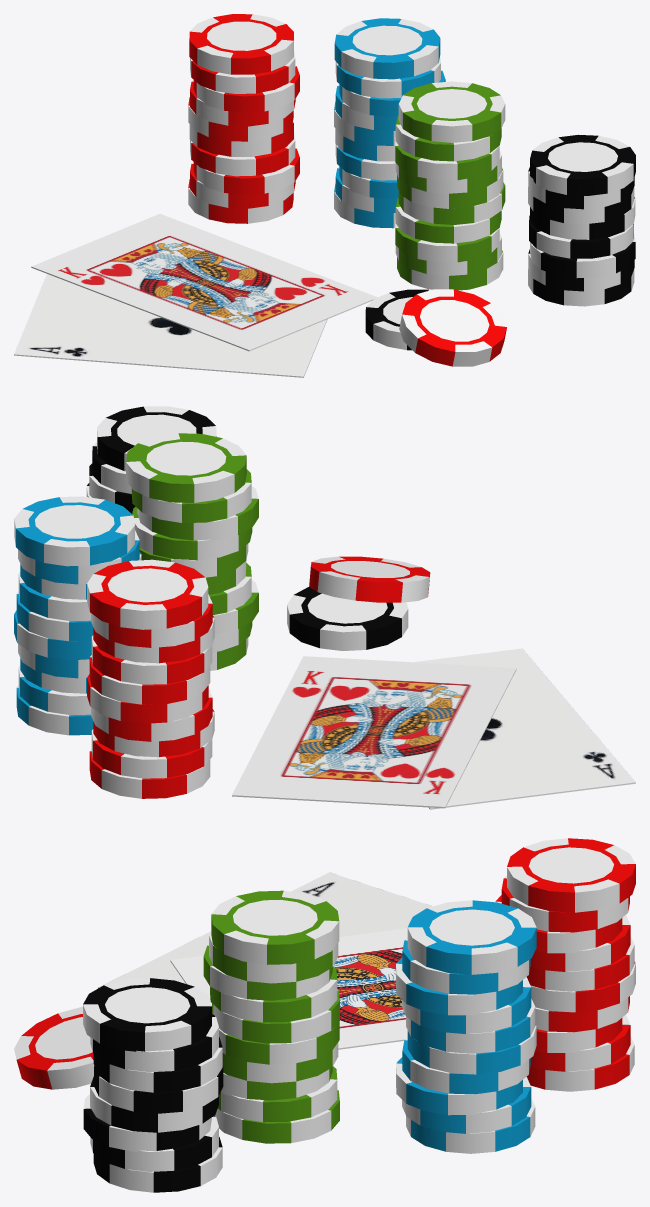
The model's file is chips.gltf.
3 views of the same model, one above another, from view 1: azimuth 30°, elevation 25°; view 2: azimuth 150°, elevation 25°; view 3: azimuth 270°, elevation 25° (orthographic). The views are drawn at different scales.
Parts seen in each view (by area): view 1: Plane_2, Plane_3, Cylinder_49, Cylinder_39, Cylinder_29, Cylinder_48, Cylinder_9, Cylinder_43, Cylinder_18, Cylinder_13, Cylinder_44, Cylinder_38 (+30 smaller); view 2: Plane_2, Plane_3, Cylinder_9, Cylinder_39, Cylinder_29, Cylinder_40, Cylinder_49, Cylinder_48, Cylinder_16, Cylinder_11, Cylinder_30, Cylinder_10 (+25 smaller); view 3: Plane_2, Cylinder_29, Cylinder_39, Cylinder_9, Cylinder_48, Plane_3, Cylinder_49, Cylinder_37, Cylinder_28, Cylinder_45, Cylinder_42, Cylinder_47 (+29 smaller).
Part boxes in pixels (box(x1,y1,x2,y2)): Plane_2: box(31, 214, 377, 351); Plane_3: box(14, 274, 327, 377); Cylinder_49: box(399, 289, 506, 366); Cylinder_39: box(398, 81, 505, 142); Cylinder_29: box(334, 18, 440, 79); Cylinder_48: box(530, 134, 635, 195); Cylinder_9: box(189, 14, 293, 74); Cylinder_43: box(530, 233, 635, 278); Cylinder_18: box(190, 50, 295, 93); Cylinder_13: box(190, 132, 295, 176); Cylinder_44: box(529, 215, 633, 258); Cylinder_38: box(395, 137, 499, 180); Plane_2: box(232, 656, 516, 808); Plane_3: box(414, 648, 635, 809); Cylinder_9: box(87, 559, 208, 629); Cylinder_39: box(126, 433, 246, 502); Cylinder_29: box(14, 496, 134, 566); Cylinder_40: box(287, 587, 408, 650); Cylinder_49: box(309, 556, 430, 602); Cylinder_48: box(97, 406, 216, 471); Cylinder_16: box(91, 635, 212, 684); Cylinder_11: box(91, 729, 212, 778); Cylinder_30: box(131, 469, 251, 522); Cylinder_10: box(89, 749, 210, 798); Plane_2: box(170, 928, 407, 1049); Cylinder_29: box(407, 900, 536, 974); Cylinder_39: box(211, 890, 339, 964); Cylinder_9: box(507, 838, 635, 912); Cylinder_48: box(83, 978, 211, 1051); Plane_3: box(98, 872, 432, 988); Cylinder_49: box(14, 1006, 94, 1089); Cylinder_37: box(210, 966, 337, 1022); Cylinder_28: box(396, 957, 522, 1015); Cylinder_45: box(94, 1065, 223, 1113); Cylinder_42: box(90, 1115, 218, 1171); Cylinder_47: box(90, 1014, 218, 1072).
Size of the model in its own units: 5.9 by 1.73 by 4.81.
Materials: 8 (3 with a texture image).
